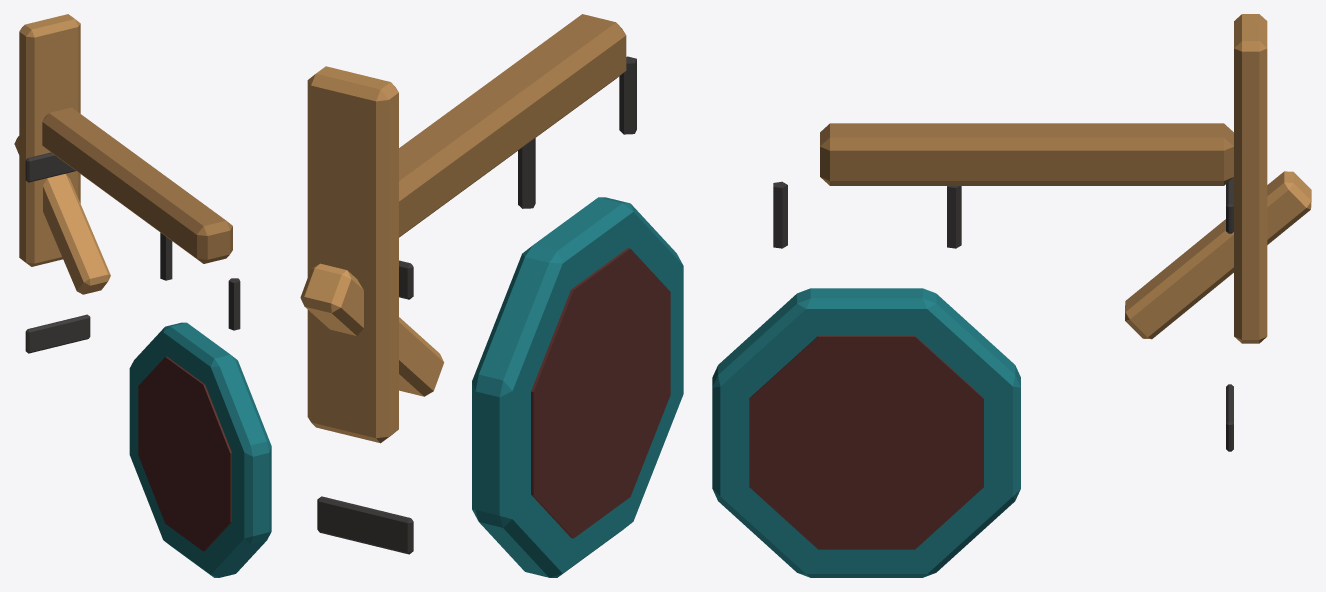
Rendered from wall_sign_bracket.glb.
3 renders of one model, left to right at view 1: azimuth 30°, elevation 25°; view 2: azimuth 150°, elevation 25°; view 3: azimuth 270°, elevation 25°, orthographic. The views are drawn at different scales.
Parts seen in each view (by area): view 1: part_sign, wall_sign_bracket; view 2: part_sign, wall_sign_bracket; view 3: part_sign, wall_sign_bracket.
Part boxes in pixels (box(x1,y1,x2,y2)): part_sign: box(129, 232, 271, 577); wall_sign_bracket: box(14, 14, 232, 353); part_sign: box(472, 56, 683, 577); wall_sign_bracket: box(300, 14, 626, 554); part_sign: box(712, 181, 1020, 577); wall_sign_bracket: box(820, 14, 1311, 451).
Bounding box in the file's own units: 0.14 × 0.901 × 0.897.
